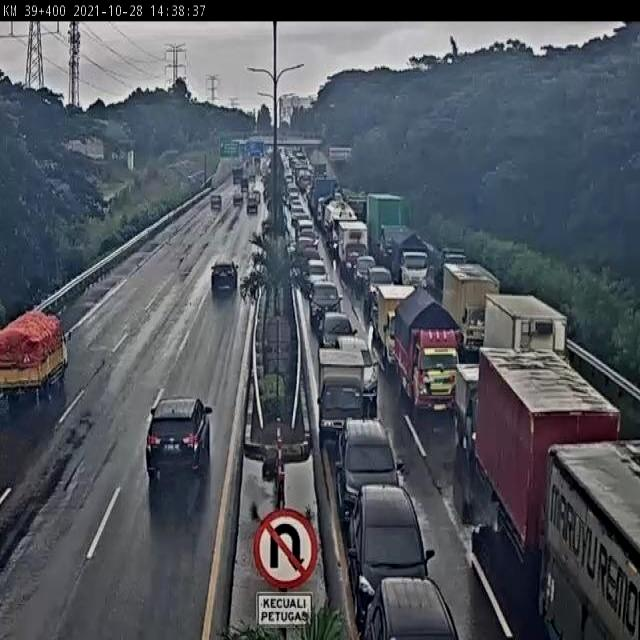Car: (345, 484, 434, 633), (336, 421, 401, 521), (145, 396, 213, 486), (334, 333, 381, 402), (316, 309, 361, 353), (307, 280, 343, 332), (365, 266, 394, 312), (354, 253, 379, 292), (211, 261, 238, 296), (305, 258, 328, 288), (246, 192, 259, 215), (210, 194, 222, 211), (233, 190, 243, 207)
Truck: (474, 344, 626, 562), (540, 442, 638, 637), (391, 288, 466, 416), (0, 305, 73, 406), (481, 289, 569, 372), (441, 260, 503, 355), (316, 346, 372, 438), (374, 280, 420, 371), (451, 361, 492, 456), (366, 193, 410, 258), (386, 230, 431, 286), (334, 218, 368, 281), (323, 199, 358, 257), (311, 177, 338, 219), (232, 164, 244, 186), (240, 176, 249, 193)
